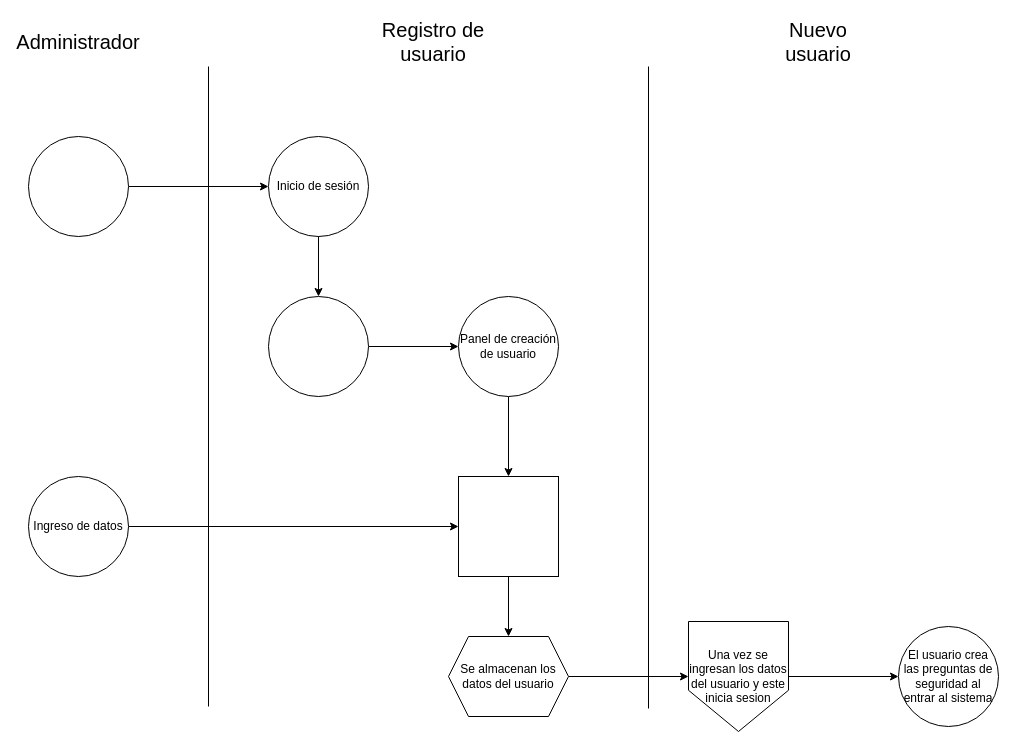
Image size: 1016x749. Some labels were removed from this diagram. Each missing label, with the centre of its shape:
"Accede al sistema" goes at (x=318, y=346).
"El admin se loguea en el sistema" goes at (x=78, y=186).
"Verificar que se hayan ingresado todos los datos del nuevo usuario" goes at (x=508, y=526).
